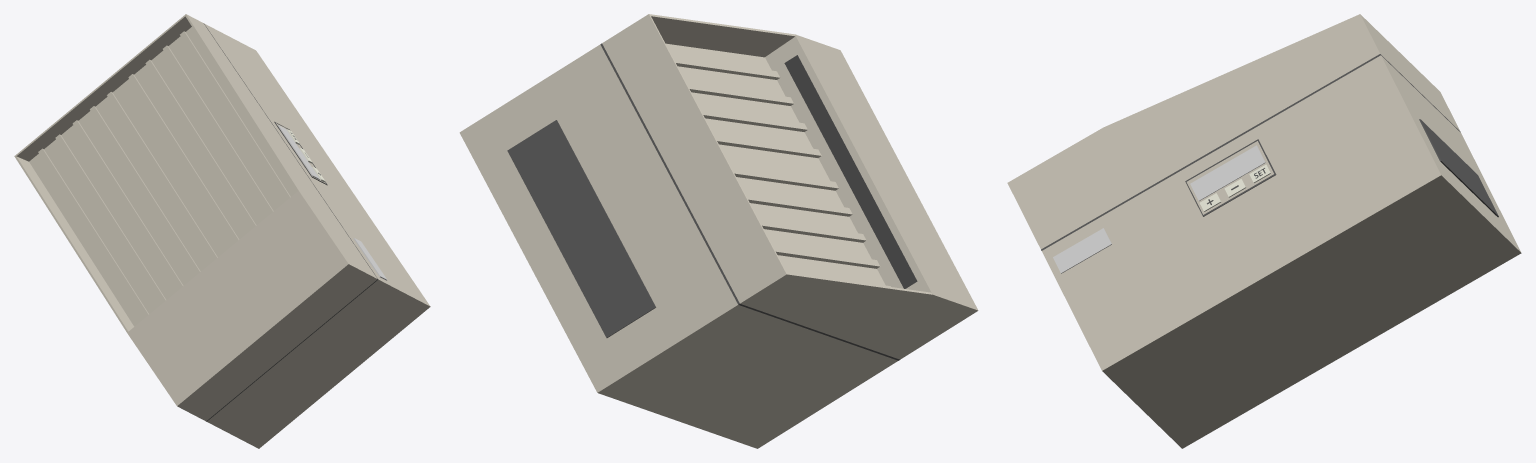
File: PRINTER.glb
3 views of the same model, side by side, from view 1: azimuth 30°, elevation 25°; view 2: azimuth 150°, elevation 25°; view 3: azimuth 270°, elevation 25° (orthographic). The views are drawn at different scales.
Parts seen in each view (by area): view 1: _0; view 2: _0; view 3: _0.
Boxes of the visible parts, <box> form: _0: <box>14,14,430,448</box>; _0: <box>459,14,978,448</box>; _0: <box>1007,14,1521,448</box>.
Size of the model in its own units: 7.26 by 9.71 by 10.35.
